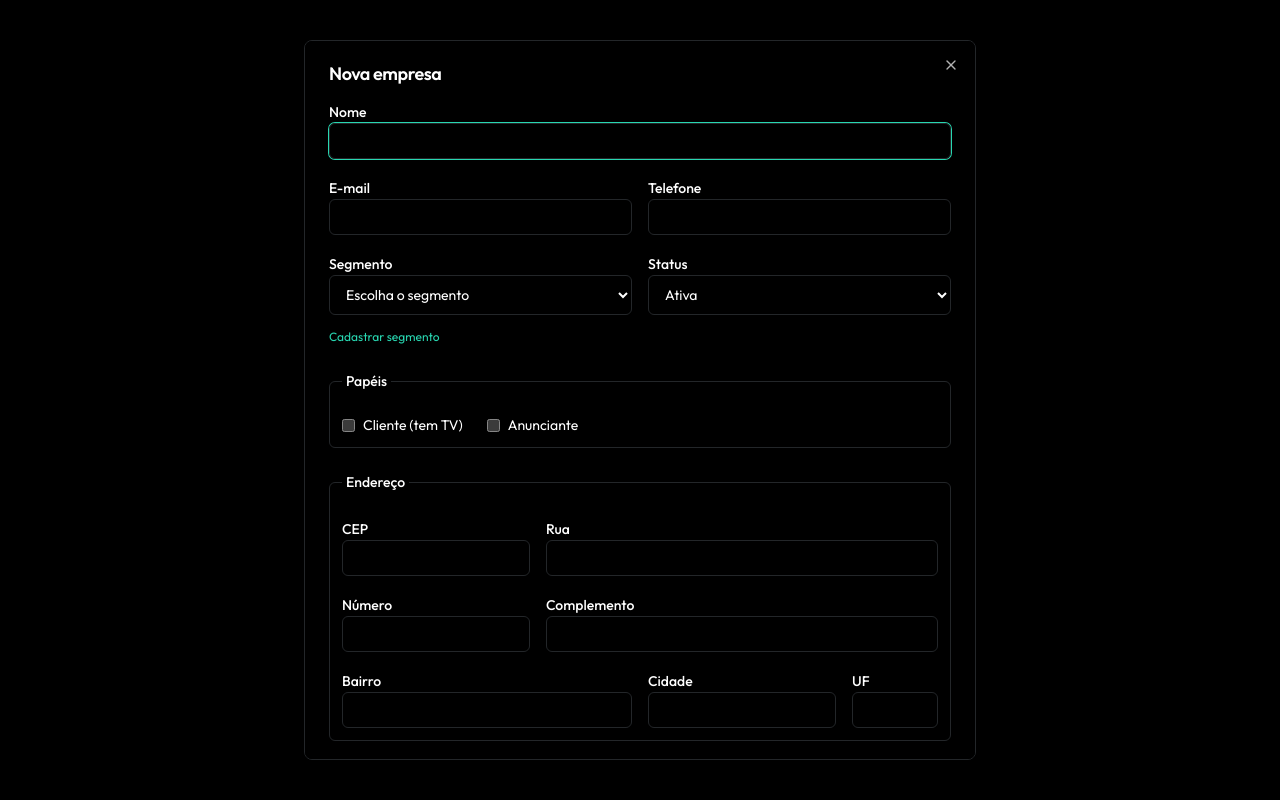
Test: CompanyFormDialog › não envia sem segmento
This screenshot has width=1280, height=800.
Type "Padaria Central" into the field labelled "Nome".
click(640, 141); type("Padaria Central")  # box [329,123,951,159]
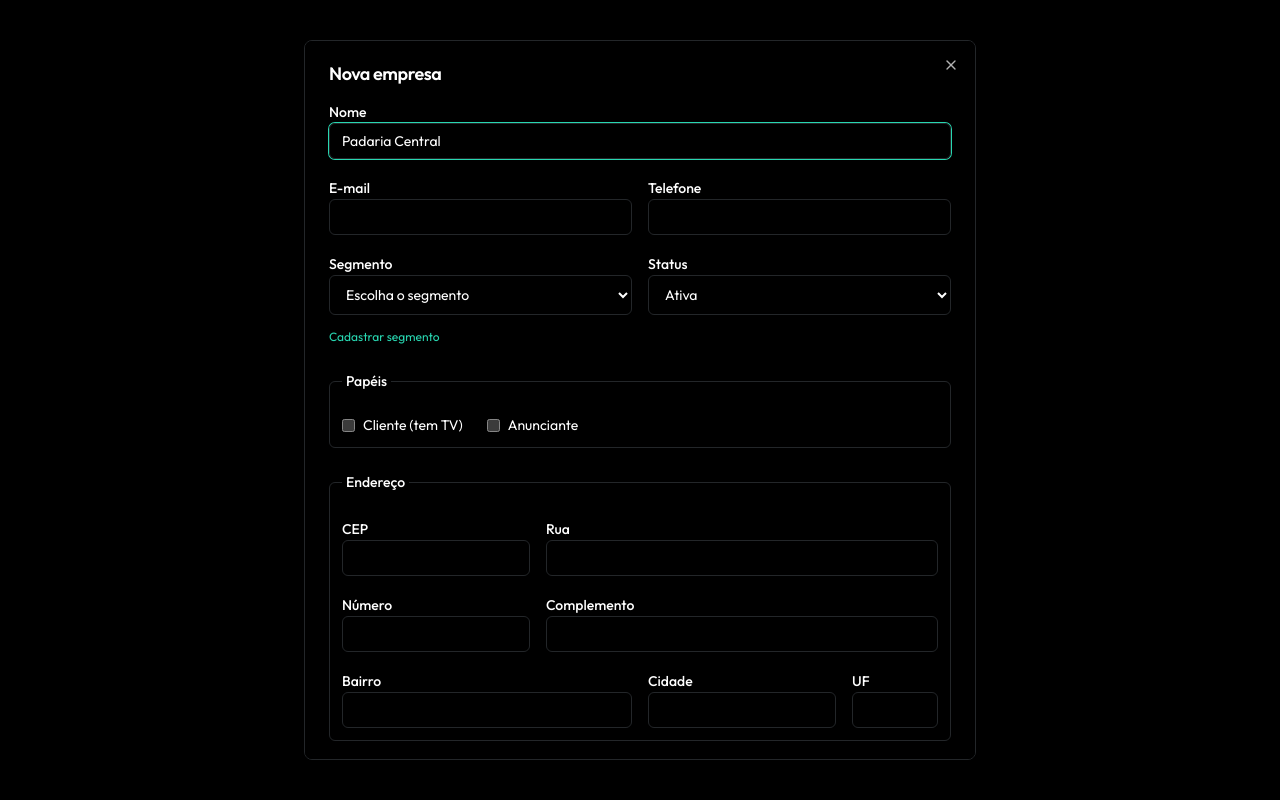
Click the checkbox labelled "Cliente (tem TV)".
click(348, 425)  # box [342,418,355,432]
(page scrolled)
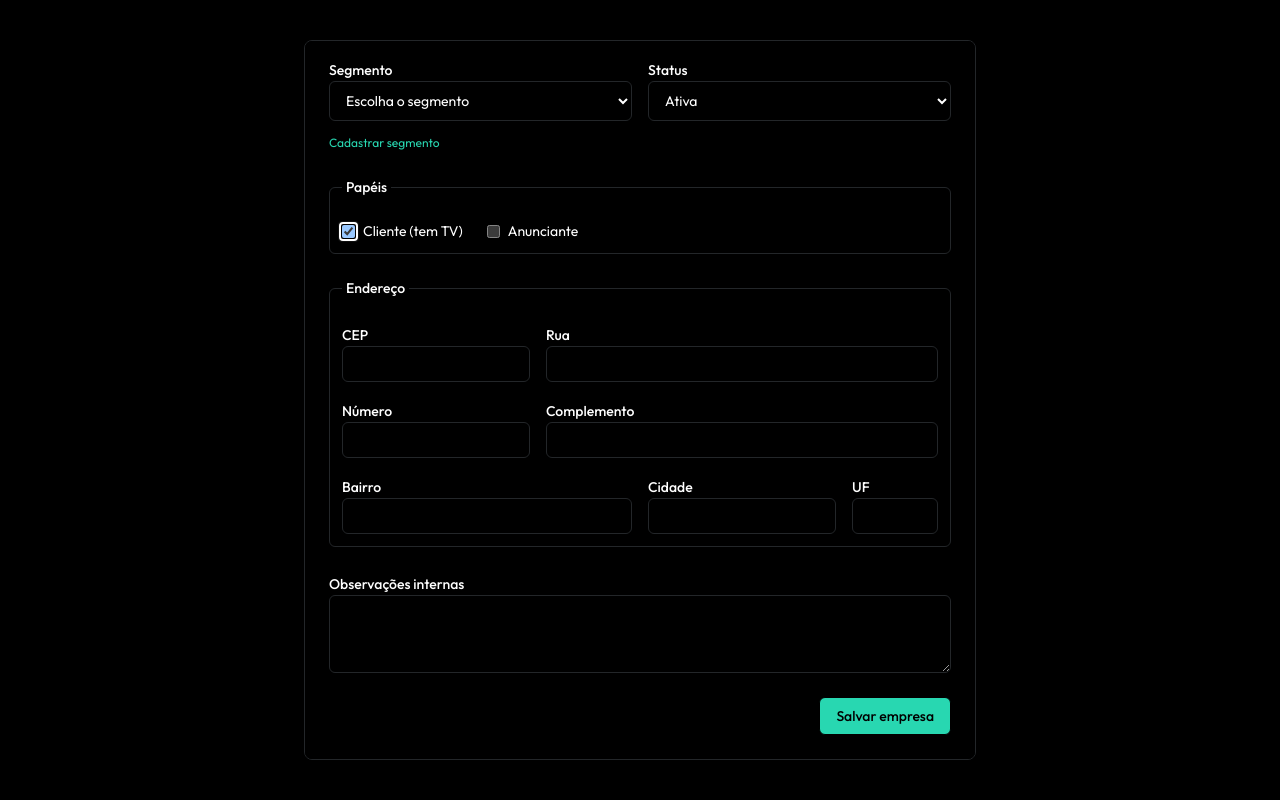
Click the button "Salvar empresa".
click(885, 716)  # box [819,697,951,735]
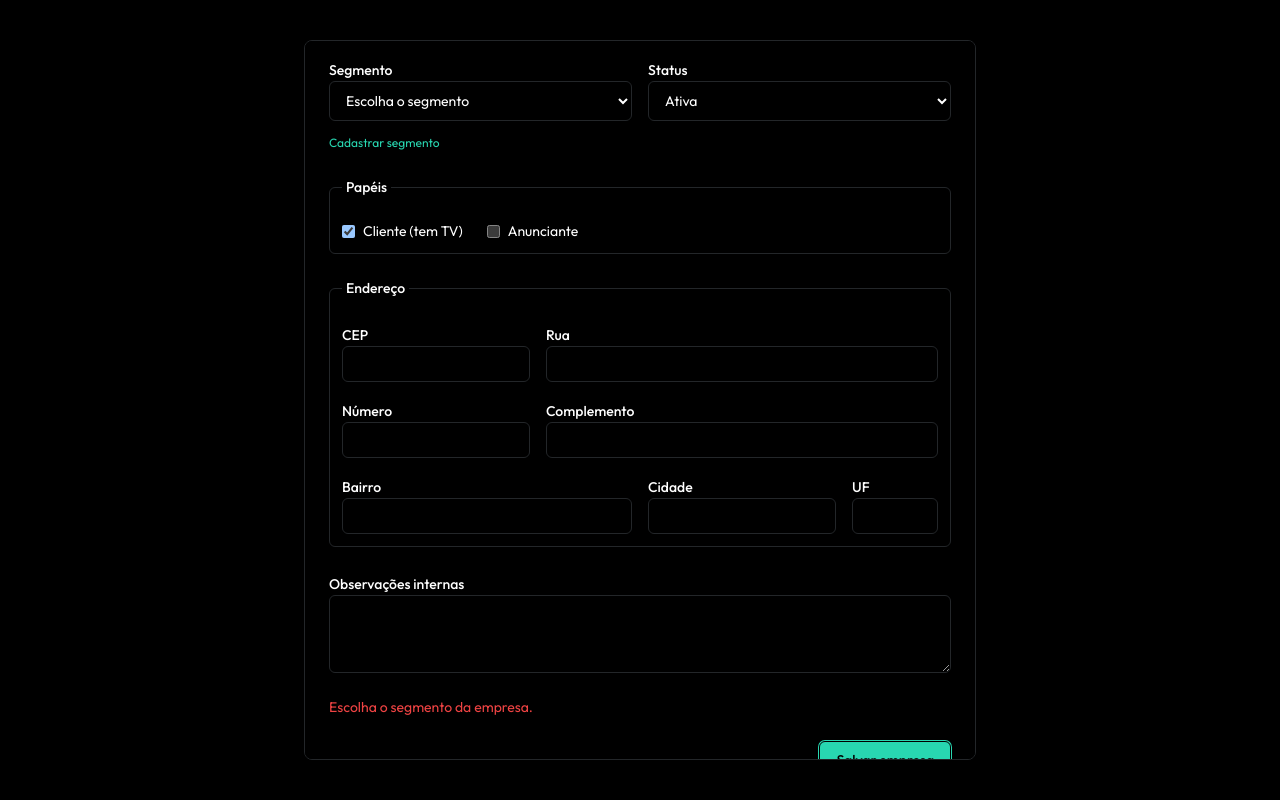
Now the text "Escolha o segmento da empresa." is shown, box [329,698,533,716]
